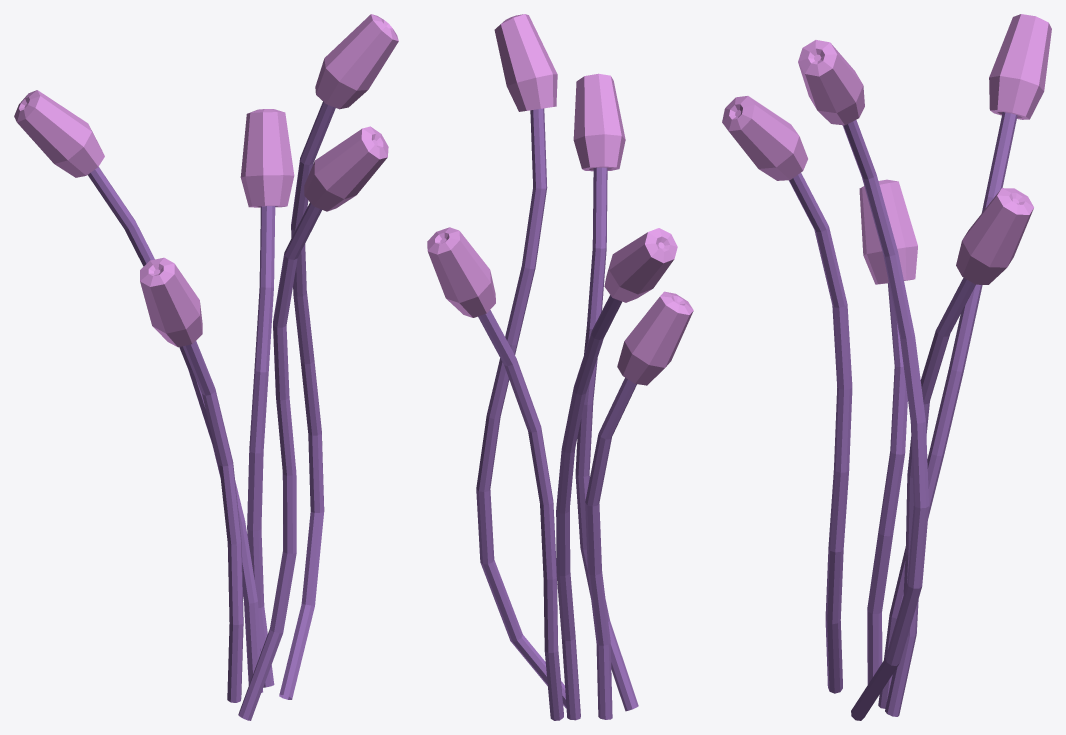
File: Gras_01_Var_03.fbx
3 views of the same model, side by side, from view 1: azimuth 30°, elevation 25°; view 2: azimuth 150°, elevation 25°; view 3: azimuth 270°, elevation 25° (orthographic). The views are drawn at different scales.
Visible parts, largest first — view 1: Gras_01_Var_03; view 2: Gras_01_Var_03; view 3: Gras_01_Var_03.
Part boxes in pixels (x1,y1,x2,y2): Gras_01_Var_03: (14, 14, 398, 720); Gras_01_Var_03: (427, 14, 693, 720); Gras_01_Var_03: (722, 14, 1051, 720).
Size of the model in its own units: 0.184 by 0.439 by 0.1894.
